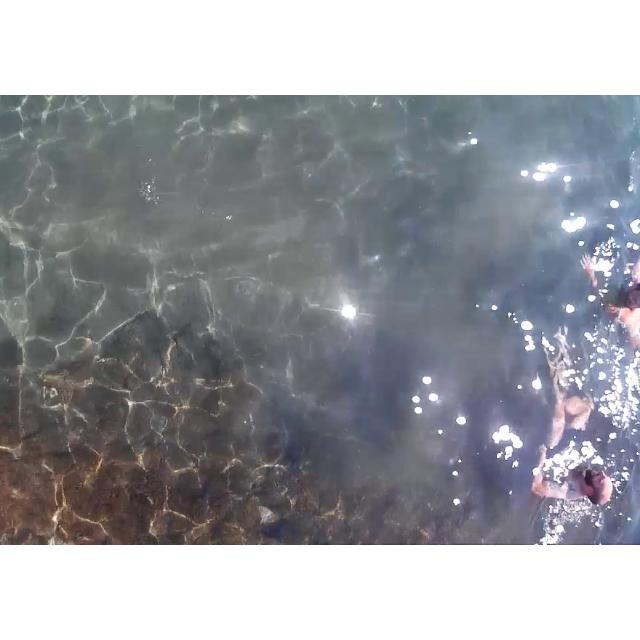human: (521, 339, 630, 529), (584, 225, 639, 363)
